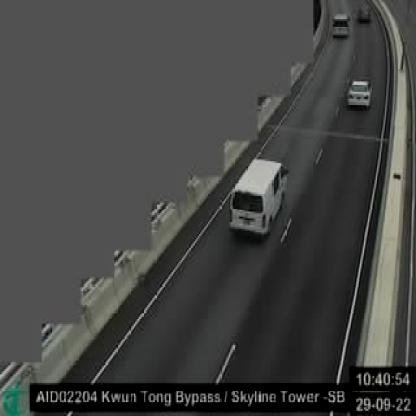Car: (226, 149, 291, 246), (339, 71, 376, 114), (330, 10, 351, 40), (356, 0, 375, 28)
